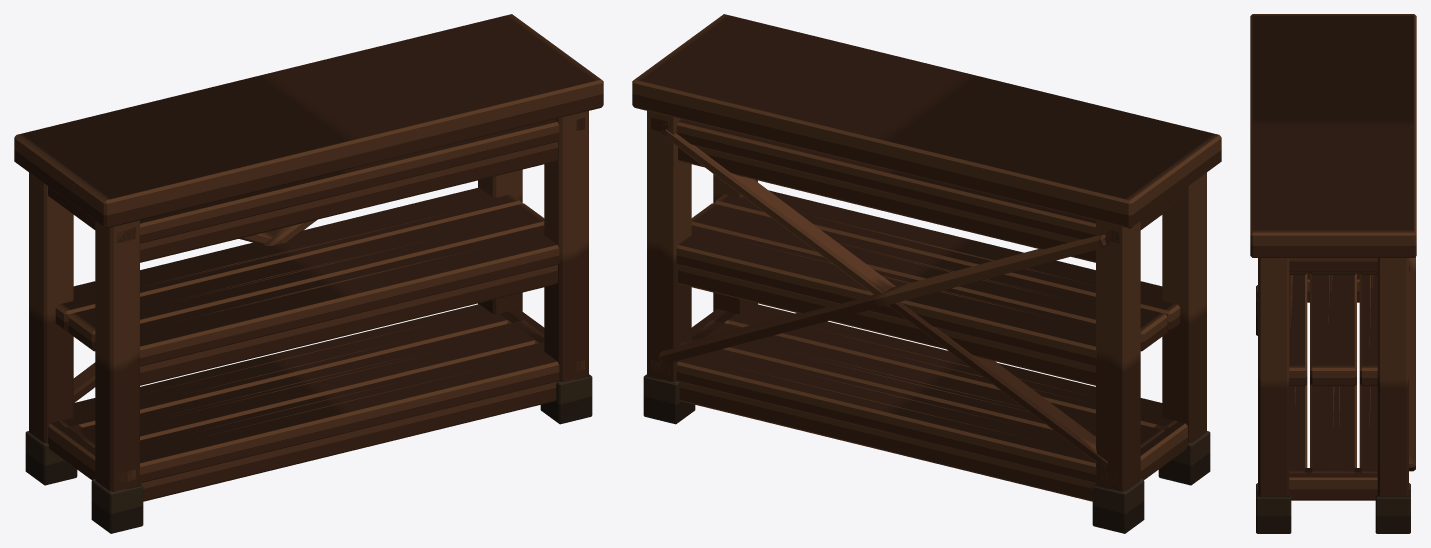
The model's file is Shelf_Low.fbx.
The picture shows the model from 3 angles, left to right: view 1: azimuth 30°, elevation 25°; view 2: azimuth 150°, elevation 25°; view 3: azimuth 270°, elevation 25°; orthographic projection. The views are drawn at different scales.
Parts seen in each view (by area): view 1: Shelf_Low; view 2: Shelf_Low; view 3: Shelf_Low.
Boxes of the visible parts, <box> form: Shelf_Low: <box>14,14,603,533</box>; Shelf_Low: <box>632,14,1221,533</box>; Shelf_Low: <box>1250,14,1416,533</box>.
Size of the model in its own units: 1.66 by 1.07 by 0.53.
2 materials, 2 textured.
